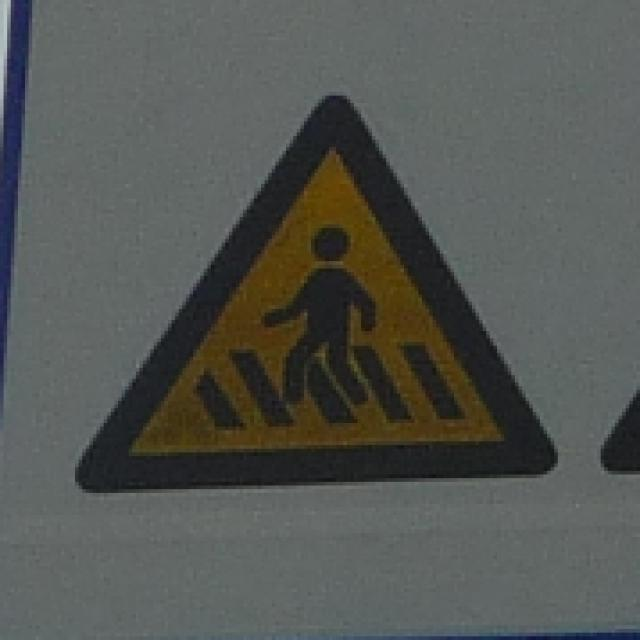Crossing: (75, 82, 568, 498)
